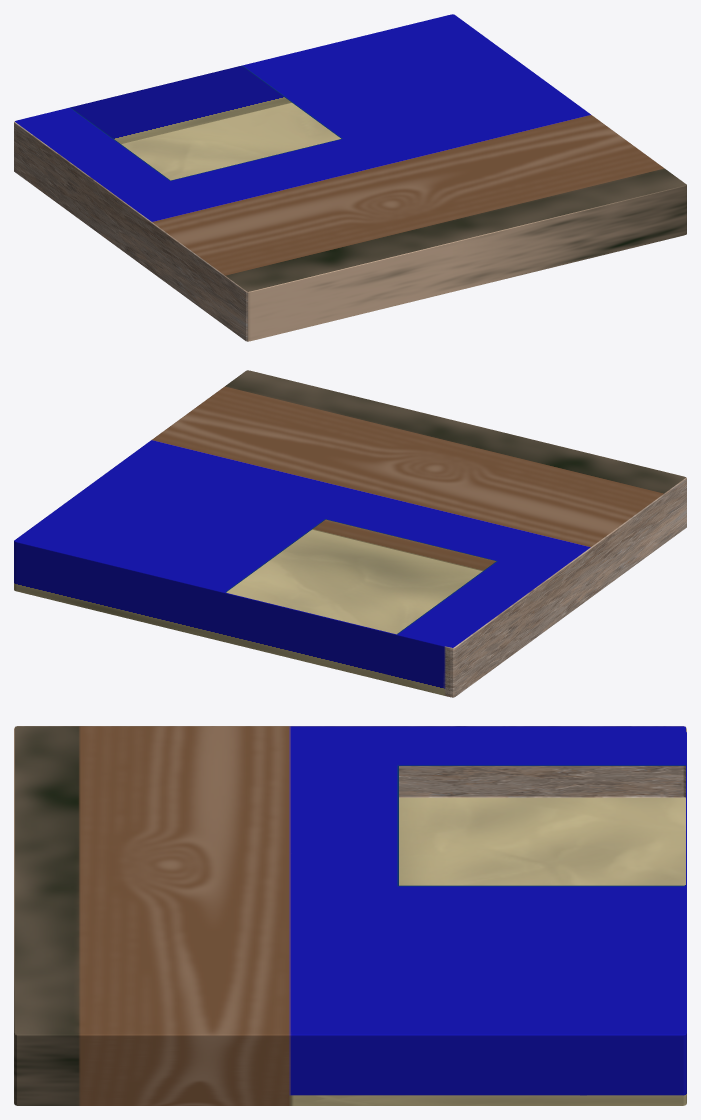
File: Flor.fbx
3 renders of one model, top to bottom at view 1: azimuth 30°, elevation 25°; view 2: azimuth 150°, elevation 25°; view 3: azimuth 270°, elevation 25°, orthographic. The views are drawn at different scales.
Parts seen in each view (by area): view 1: flor.002; view 2: flor.002; view 3: flor.002.
Part boxes in pixels (x1,y1,x2,y2): flor.002: (14, 14, 686, 341); flor.002: (14, 370, 686, 697); flor.002: (14, 726, 686, 1105).
Bounding box in the file's own units: 800 × 85.93 × 736.
